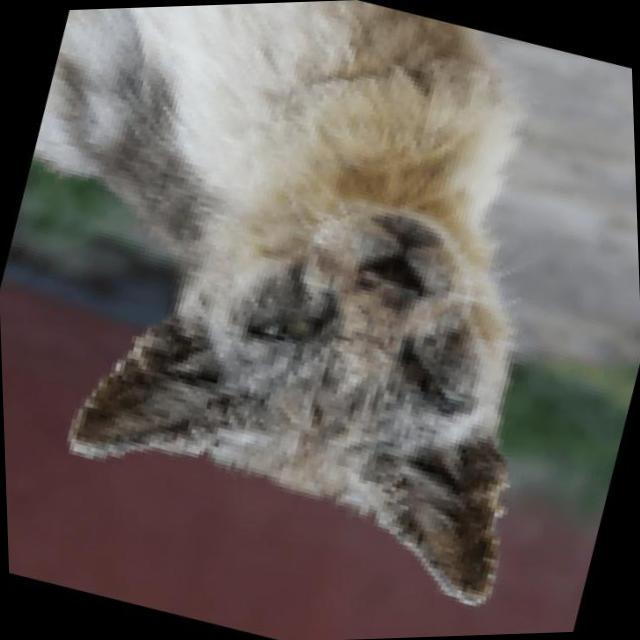Mange: (58, 323, 161, 468), (465, 458, 501, 585)
